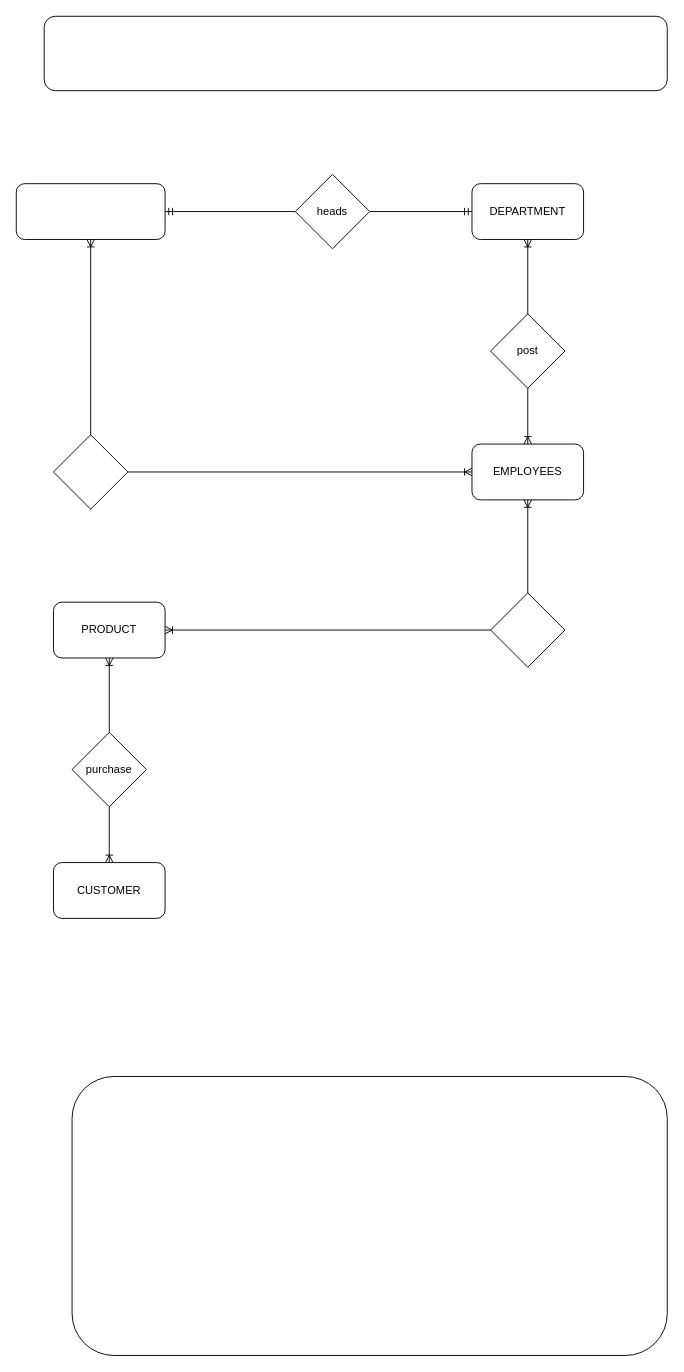
Some shapes in this 684 by 1372 pixel diagram are drawn without their labels. The box of each missing label's shape, as (x1, y1, x2, y2) in pixels:
A DRINK STORE CONCEPTUAL DIAGRAM: (43, 15, 667, 91)
pays: (53, 434, 128, 509)
sell: (490, 592, 565, 667)
SUPERVISOR: (15, 183, 165, 239)
